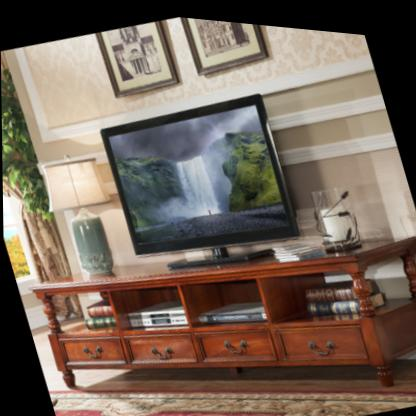Carpet: (48, 385, 416, 416)
TV stand: (25, 174, 416, 416)
